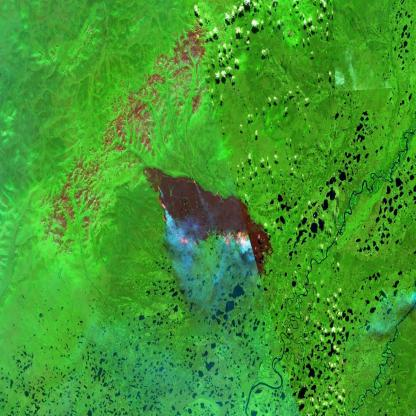fire: (152, 182, 264, 259)
